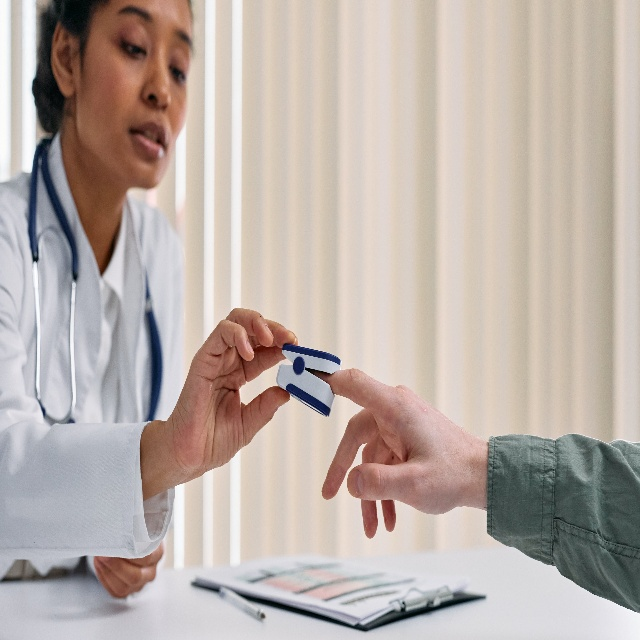Sin_guantes: (309, 357, 469, 541), (167, 303, 299, 480), (93, 540, 165, 604)
